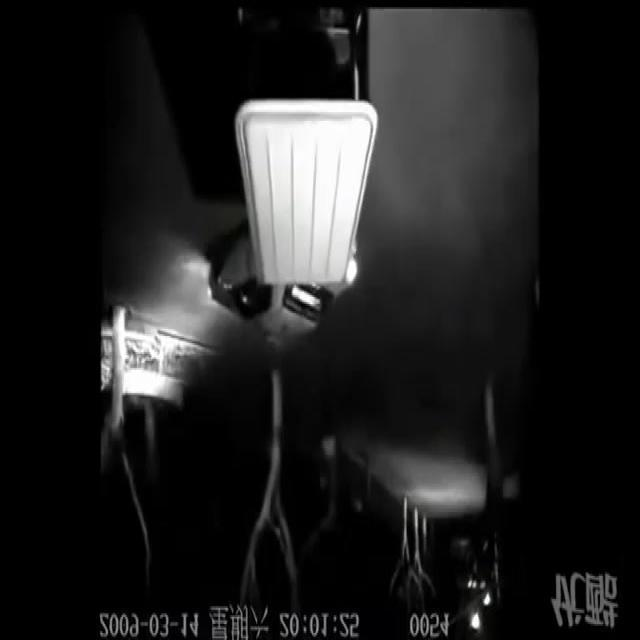moderate: (202, 0, 384, 363)
